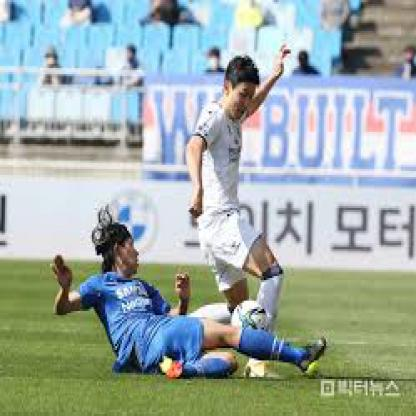Fall_Down: (52, 216, 328, 381)
